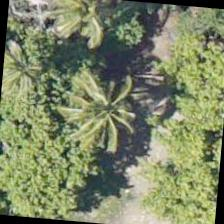Kelapa_Sawit: (56, 62, 154, 160), (0, 22, 67, 118), (40, 0, 136, 65)
